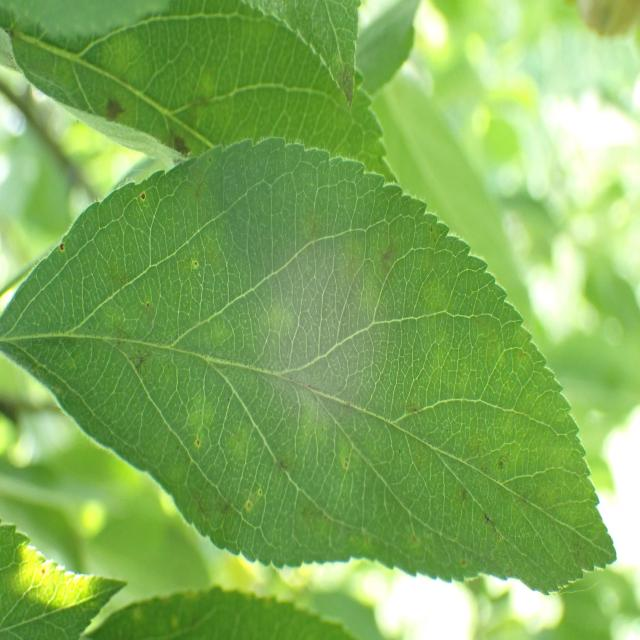scab: (79, 185, 616, 573), (85, 54, 201, 172)
